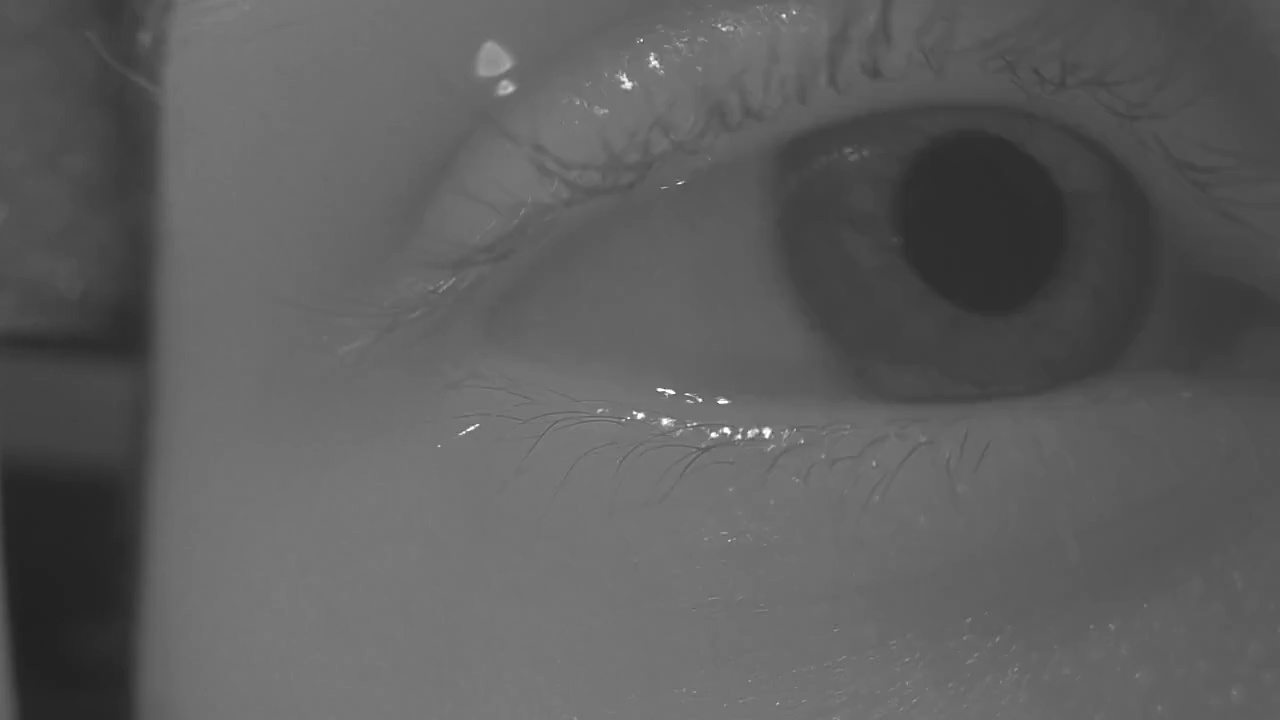pupil: (896, 130, 1065, 312)
